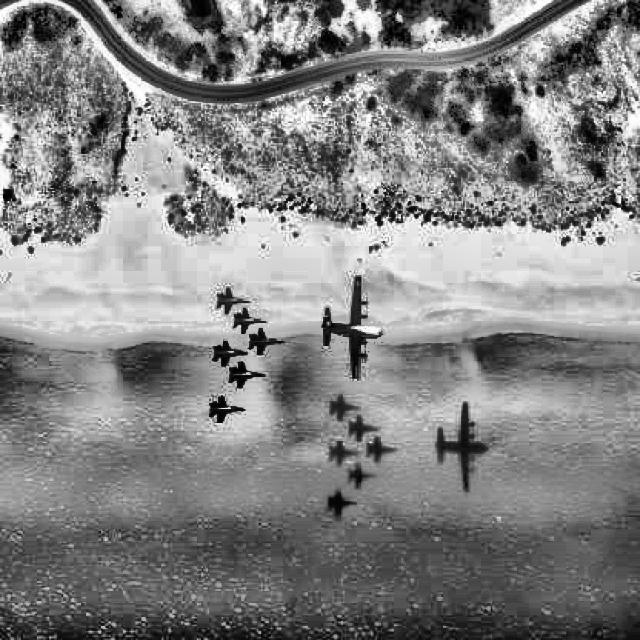C130: (321, 274, 385, 380)
F18: (208, 394, 246, 426), (228, 360, 266, 391), (212, 338, 250, 368), (214, 286, 252, 316), (248, 326, 284, 357), (232, 306, 268, 336)
